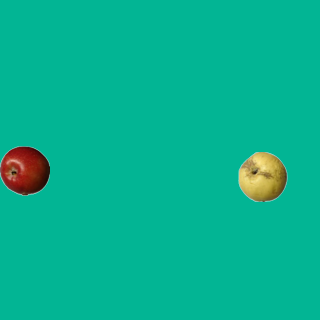Apple Braeburn: (0, 145, 49, 195)
Apple Golden 1: (237, 151, 287, 201)
